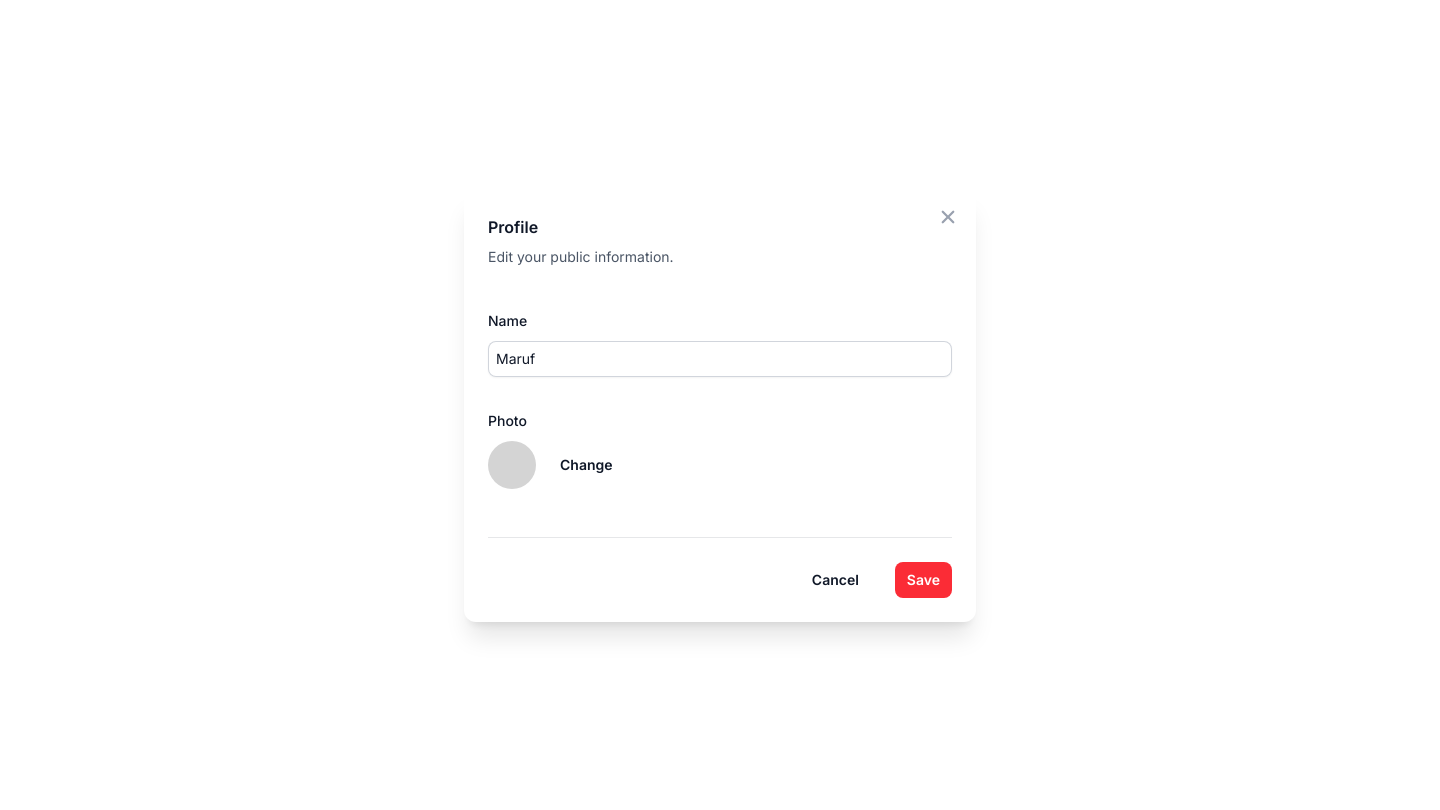
Test: SettingsModal › shows a validation error when the name is cleared
Clear the field labelled "Name": (720, 358) 488,340 -> 952,376
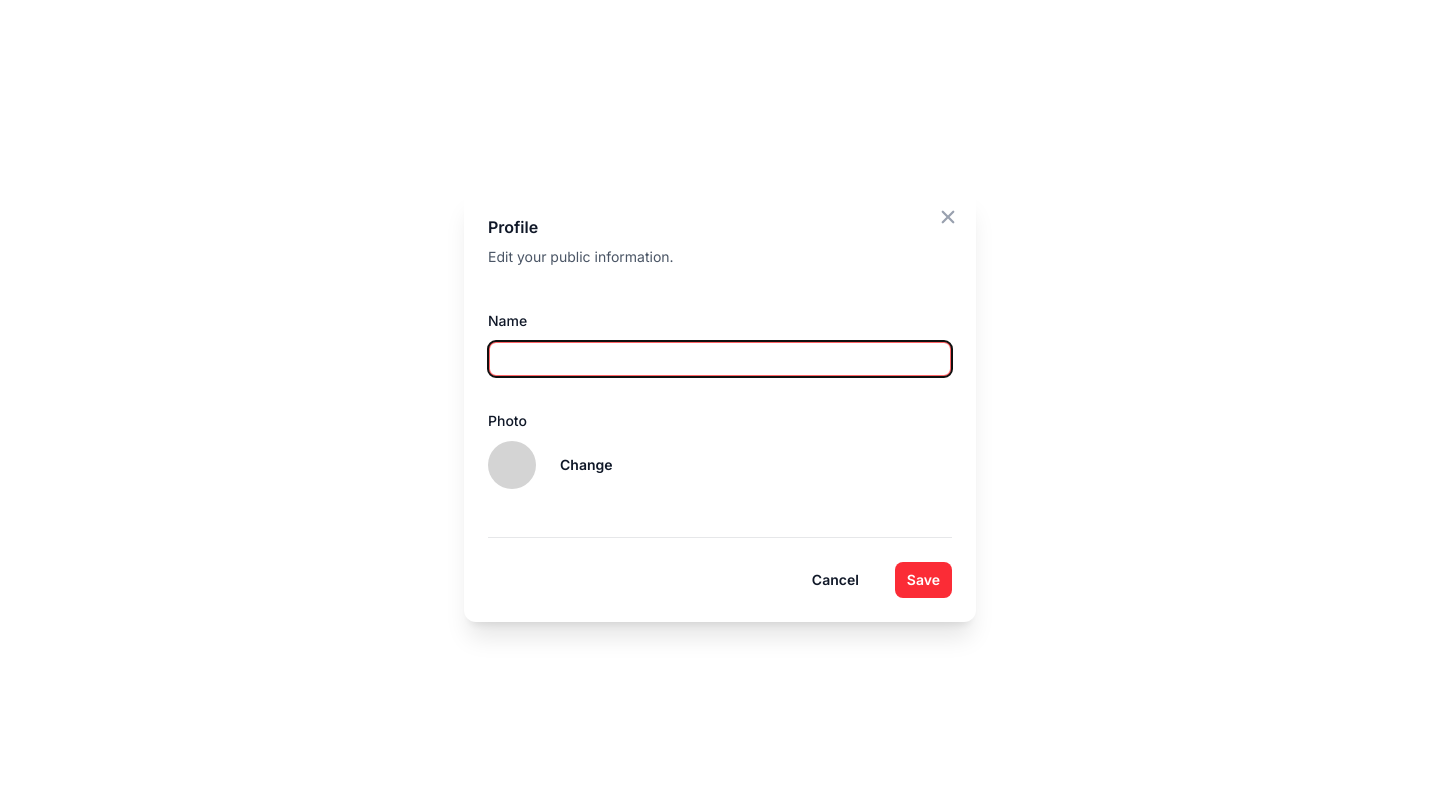
Click the button "Save": (923, 580) 895,562 -> 952,598
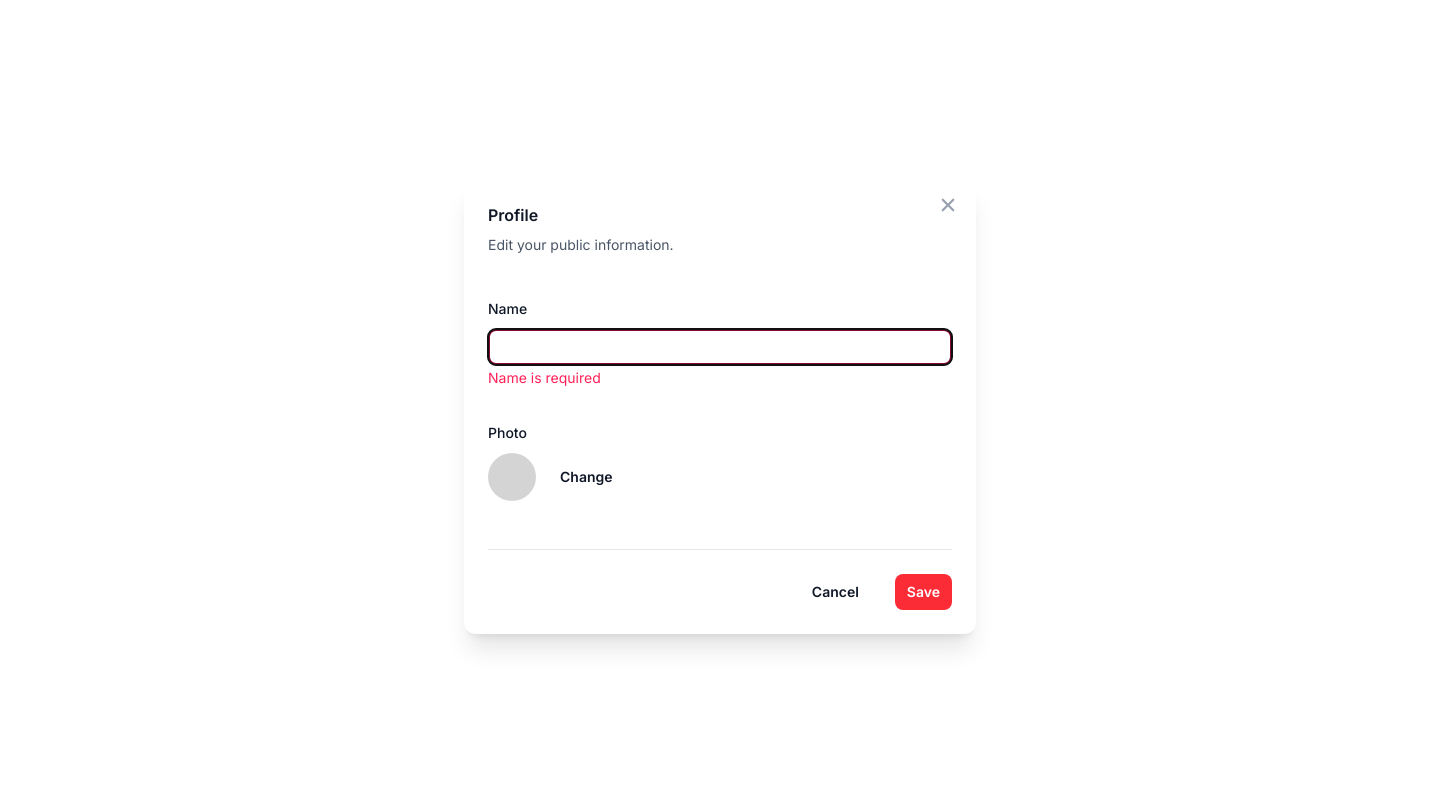
Result: the text "Name is required" is shown at 488,368 -> 601,386
